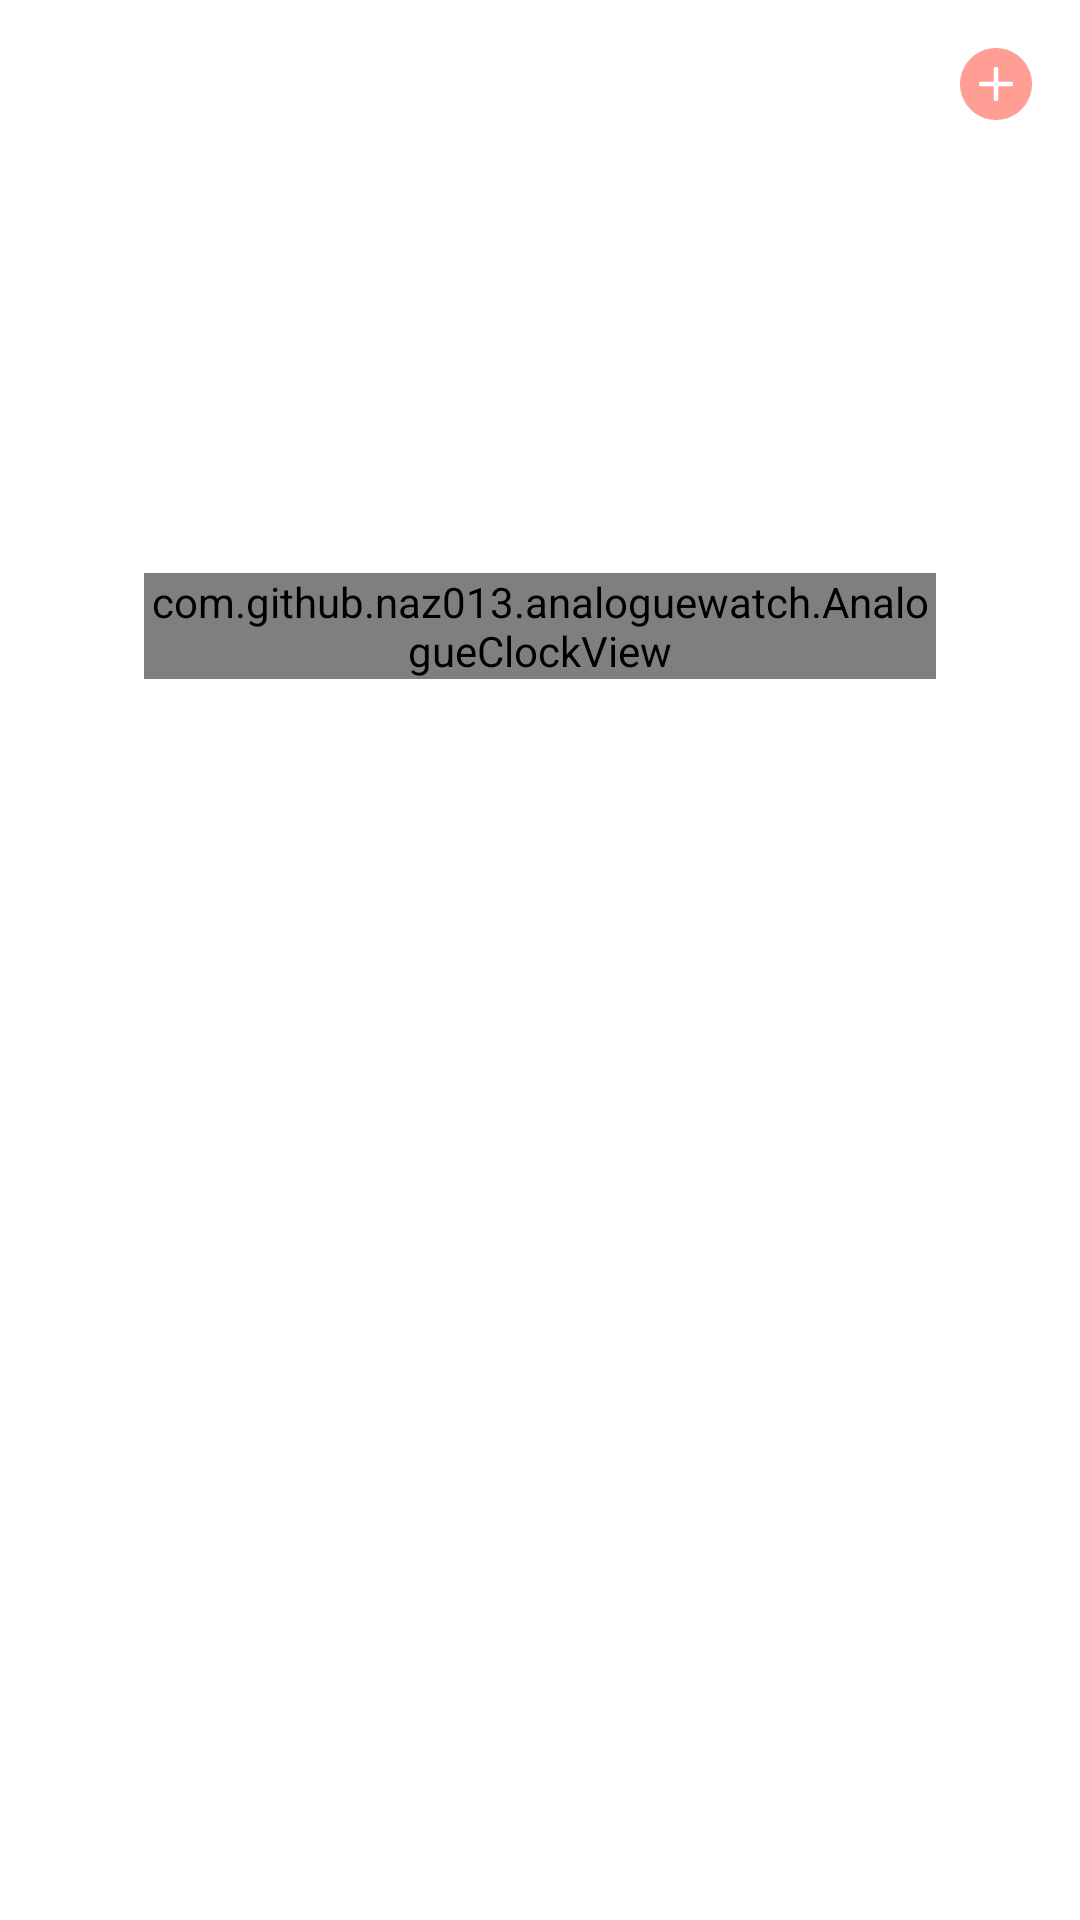

Icons on this 1080px x 1920px Android screen, each with the point to tap as point (x, y):
add plus: point (996, 84)
